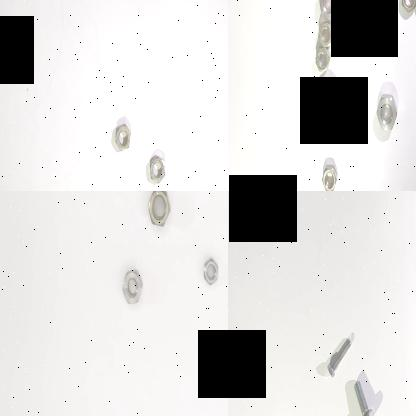Bolts: (325, 328, 355, 380), (348, 373, 376, 416)
NUTS: (314, 82, 341, 128), (144, 191, 172, 232), (374, 91, 398, 135), (122, 266, 142, 308), (112, 119, 133, 155), (148, 150, 168, 186), (319, 159, 339, 191), (315, 20, 337, 48), (202, 254, 220, 288), (311, 45, 333, 72), (313, 0, 341, 20), (397, 0, 416, 12)
